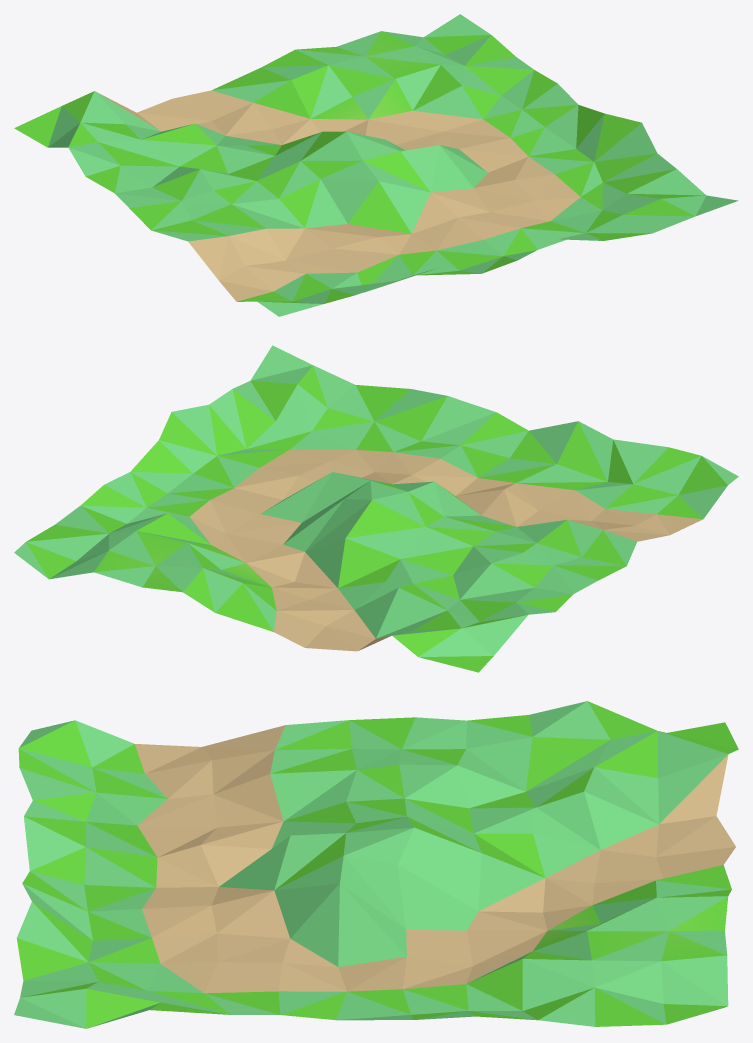
Rendered from ground.gltf.
3 views of the same model, one above another, from view 1: azimuth 30°, elevation 25°; view 2: azimuth 150°, elevation 25°; view 3: azimuth 270°, elevation 25° (orthographic). The views are drawn at different scales.
Parts seen in each view (by area): view 1: Plane; view 2: Plane; view 3: Plane.
Part boxes in pixels (box(x1,y1,x2,y2)): Plane: box(14, 14, 738, 316); Plane: box(14, 345, 738, 672); Plane: box(14, 701, 738, 1028).
Bounding box in the file's own units: 32.92 × 3.4 × 33.05.
